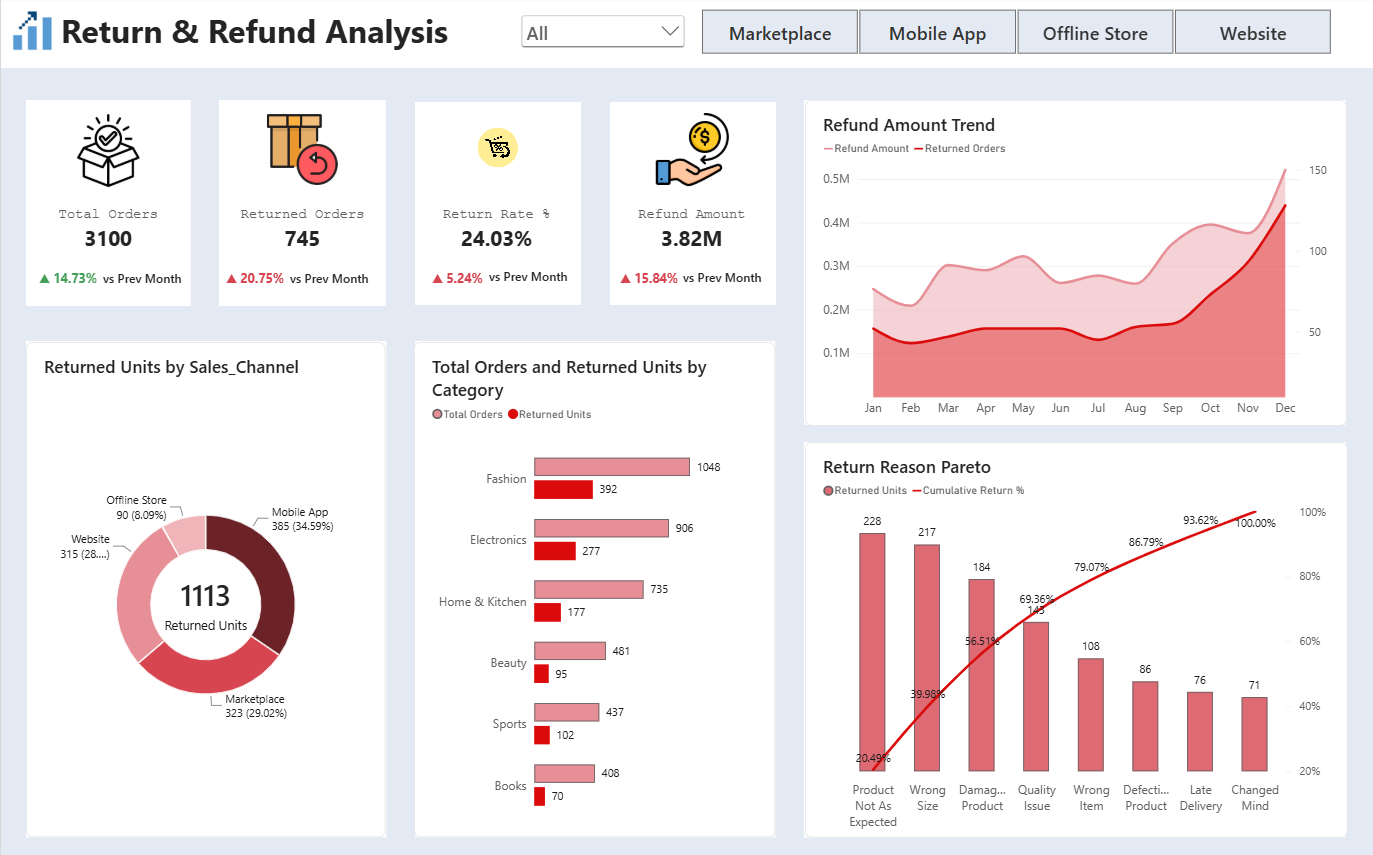

The dashboard page shown, as its layout file describes it:
{"tool":"powerbi","page":{"name":"Executive Summary","canvas":[1600,1000],"ordinal":0},"visuals":[{"type":"shape","box":[0,0,1600,82.6],"z":0},{"type":"shape","box":[28.7,119.8,191.6,239.5],"z":1000},{"type":"shape","box":[253.9,119.8,194,239.5],"z":2000},{"type":"shape","box":[481.1,122.2,193,236],"z":3000},{"type":"shape","box":[707.6,122.2,193,236],"z":4000},{"type":"shape","box":[934.1,119.8,629.9,378.4],"z":5000},{"type":"shape","box":[934.1,517.4,629.9,459.9],"z":6000},{"type":"shape","box":[28.7,400,419.2,577.2],"z":7000},{"type":"shape","box":[481.4,400,419.2,577.2],"z":8000},{"type":"textbox","box":[70,13.8,477.6,55],"z":9000},{"type":"cardVisual","fields":{"Data":["measure.Total Orders"]},"box":[29.2,230.8,191.9,77.9],"z":10000},{"type":"cardVisual","fields":{"Data":["measure.Return Orders"]},"box":[253.6,230.9,194.2,77.9],"z":11000},{"type":"cardVisual","fields":{"Data":["measure.Return Rate %"]},"box":[479.1,230.9,194.5,78.2],"z":12000},{"type":"cardVisual","fields":{"Data":["measure.Refund Amount"]},"box":[707.3,230.9,192.7,77.3],"z":13000},{"type":"areaChart","title":"Refund Amount Trend","fields":{"Category":["dim_date.Month Name"],"Y":["measure.Refund Amount"],"Y2":["measure.Returned Orders"]},"box":[934.4,119.8,630,378.9],"z":14000},{"type":"slicer","fields":{"Values":["dim_channel.Sales_Channel"]},"box":[794.3,13.3,771.5,55.1],"z":15000},{"type":"lineClusteredColumnComboChart","title":"Return Reason Pareto","fields":{"Category":["dim_return-reason.Return_Reason"],"Y":["measure.Returned Units"],"Y2":["measure.Cumulative Return %"]},"box":[934.9,516.9,630.9,459.9],"z":16000},{"type":"donutChart","fields":{"Category":["dim_channel.Sales_Channel"],"Y":["measure.Returned Units"]},"box":[28.5,401,418.1,575.8],"z":17000},{"type":"clusteredBarChart","fields":{"Category":["dim_products.Category"],"Y":["measure.Total Orders","measure.Returned Units"]},"box":[480.8,401,420,575.8],"z":18000},{"type":"image","box":[65.8,135.8,117.5,85],"z":19000},{"type":"image","box":[291.8,135.5,117.3,85.5],"z":20000},{"type":"image","box":[518.2,135.5,117.3,85.5],"z":21000},{"type":"image","box":[745.5,135.5,117.3,85.5],"z":22000},{"type":"slicer","fields":{"Values":["dim_date.Month Name"]},"box":[600,16,200,50],"z":23000},{"type":"cardVisual","fields":{"Data":["measure.Total Order MOM Var"]},"box":[44.2,309.2,74.2,31.7],"z":25000},{"type":"textbox","box":[118.3,317,102.5,27.5],"z":26000},{"type":"cardVisual","fields":{"Data":["measure.Returned Order MOM Var"]},"box":[261.4,309,74.2,31.7],"z":26001},{"type":"textbox","box":[335.7,317,102.5,27.5],"z":26002},{"type":"cardVisual","fields":{"Data":["measure.Refund Amount MOM Var"]},"box":[720,309,74.2,31.7],"z":26003},{"type":"textbox","box":[793,316,102.5,27.5],"z":26004},{"type":"cardVisual","fields":{"Data":["measure.Return Rate MOM Var"]},"box":[501,309,70,32.2],"z":26005},{"type":"textbox","box":[567,315.6,100,27.8],"z":26006},{"type":"image","box":[7,11.6,59.3,54.7],"z":26007}]}

Visuals, with their boxes in screenshot pixels (x1, y1, x2, y2), scaled from the page's 1600x1000 canvas onto the 1373x855 screenshot:
shape: x1=0, y1=0, x2=1372, y2=71
shape: x1=25, y1=102, x2=189, y2=307
shape: x1=218, y1=102, x2=384, y2=307
shape: x1=413, y1=104, x2=578, y2=306
shape: x1=607, y1=104, x2=773, y2=306
shape: x1=802, y1=102, x2=1342, y2=426
shape: x1=802, y1=442, x2=1342, y2=836
shape: x1=25, y1=342, x2=384, y2=836
shape: x1=413, y1=342, x2=773, y2=836
textbox: x1=60, y1=12, x2=470, y2=59
cardVisual - measure.Total Orders: x1=25, y1=197, x2=190, y2=264
cardVisual - measure.Return Orders: x1=218, y1=197, x2=384, y2=264
cardVisual - measure.Return Rate %: x1=411, y1=197, x2=578, y2=264
cardVisual - measure.Refund Amount: x1=607, y1=197, x2=772, y2=264
"Refund Amount Trend" areaChart: x1=802, y1=102, x2=1342, y2=426
slicer - dim_channel.Sales_Channel: x1=682, y1=11, x2=1344, y2=58
"Return Reason Pareto" lineClusteredColumnComboChart: x1=802, y1=442, x2=1344, y2=835
donutChart - dim_channel.Sales_Channel x measure.Returned Units: x1=24, y1=343, x2=383, y2=835
clusteredBarChart - dim_products.Category x measure.Total Orders: x1=413, y1=343, x2=773, y2=835
image: x1=56, y1=116, x2=157, y2=189
image: x1=250, y1=116, x2=351, y2=189
image: x1=445, y1=116, x2=545, y2=189
image: x1=640, y1=116, x2=740, y2=189
slicer - dim_date.Month Name: x1=515, y1=14, x2=686, y2=56
cardVisual - measure.Total Order MOM Var: x1=38, y1=264, x2=102, y2=291
textbox: x1=102, y1=271, x2=189, y2=295
cardVisual - measure.Returned Order MOM Var: x1=224, y1=264, x2=288, y2=291
textbox: x1=288, y1=271, x2=376, y2=295
cardVisual - measure.Refund Amount MOM Var: x1=618, y1=264, x2=682, y2=291
textbox: x1=680, y1=270, x2=768, y2=294
cardVisual - measure.Return Rate MOM Var: x1=430, y1=264, x2=490, y2=292
textbox: x1=487, y1=270, x2=572, y2=294
image: x1=6, y1=10, x2=57, y2=57
